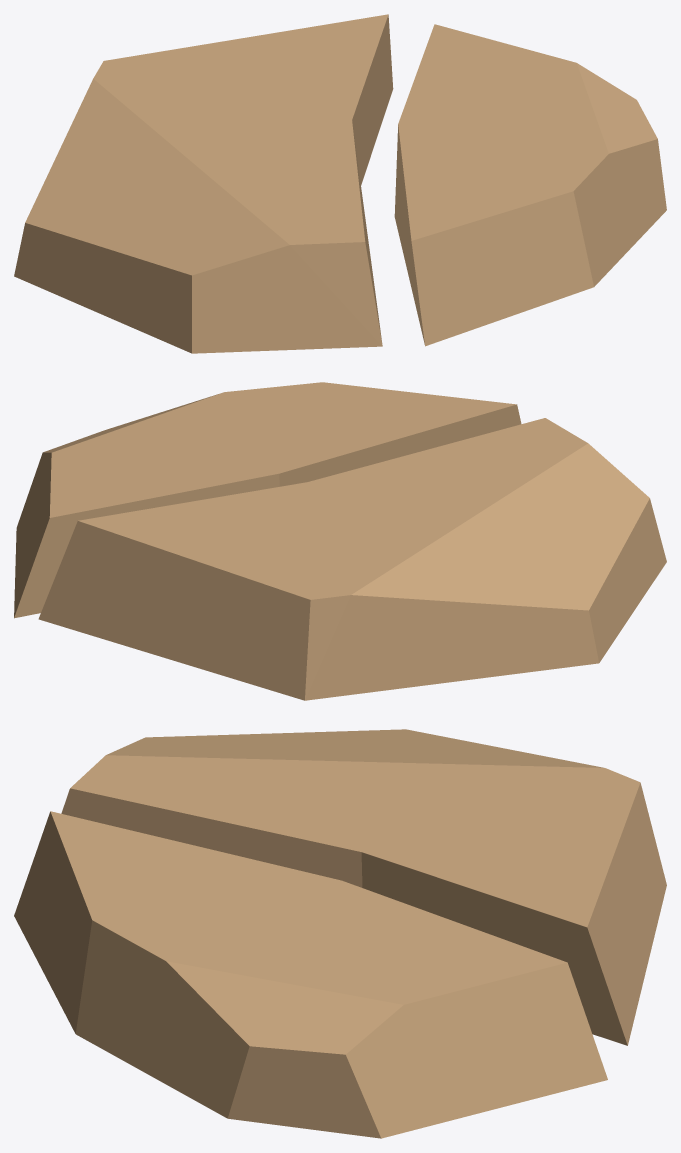
The model's file is Rock_Flat_crk_s_03.fbx.
The picture shows the model from 3 angles, top to bottom: view 1: azimuth 30°, elevation 25°; view 2: azimuth 150°, elevation 25°; view 3: azimuth 270°, elevation 25°; orthographic projection. The views are drawn at different scales.
Visible parts, largest first — view 1: Rock_Flat_crk_s_03; view 2: Rock_Flat_crk_s_03; view 3: Rock_Flat_crk_s_03.
Boxes of the visible parts, x1,y1,x2,y2 form: Rock_Flat_crk_s_03: [14, 14, 666, 353]; Rock_Flat_crk_s_03: [14, 382, 666, 700]; Rock_Flat_crk_s_03: [14, 729, 666, 1138].
Size of the model in its own units: 77.9 by 13.6 by 63.81.
